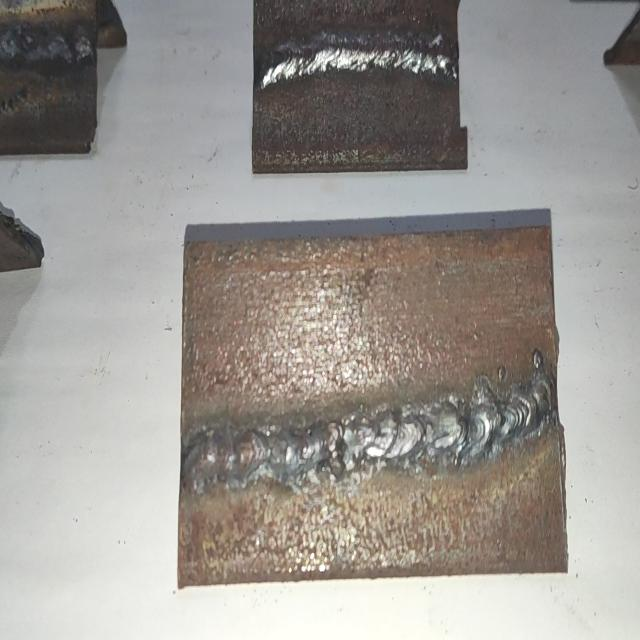Good Weld: (187, 369, 555, 478), (255, 34, 455, 86), (0, 21, 97, 66)
